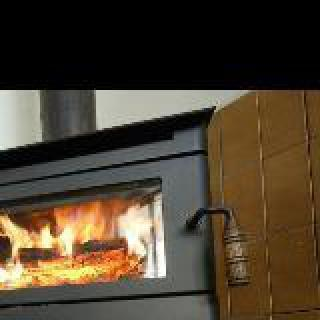fire: (0, 202, 144, 284)
